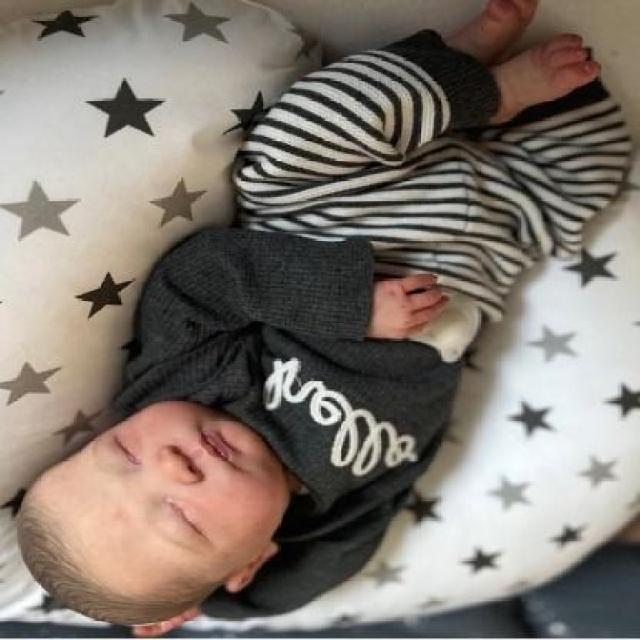baby: (16, 24, 630, 632)
